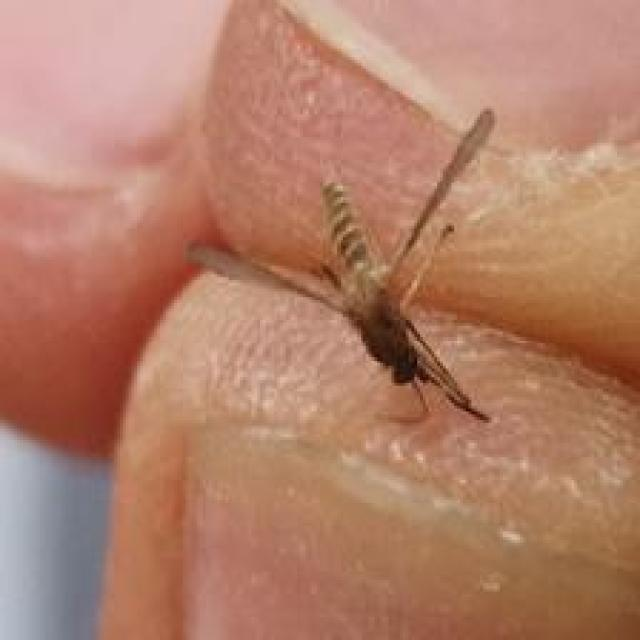Culex: (184, 106, 499, 426)
